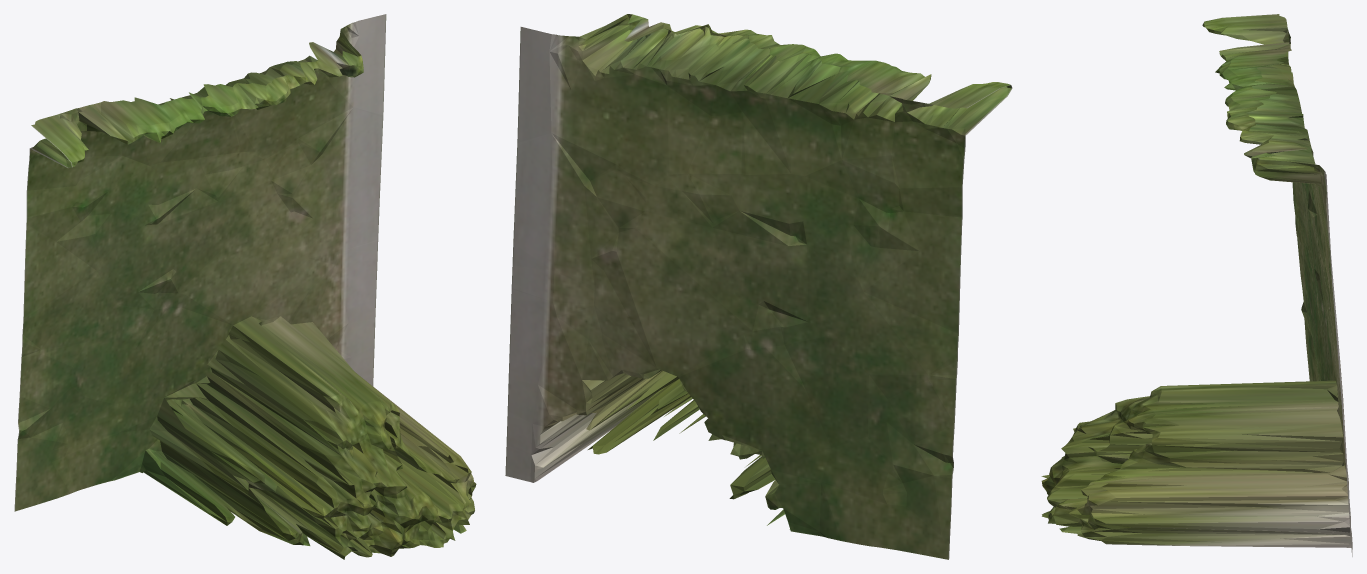
The model's file is map_60_80.obj.
The picture shows the model from 3 angles, left to right: view 1: azimuth 30°, elevation 25°; view 2: azimuth 150°, elevation 25°; view 3: azimuth 270°, elevation 25°; orthographic projection. The views are drawn at different scales.
Parts seen in each view (by area): view 1: grp1; view 2: grp1; view 3: grp1.
Boxes of the visible parts, x1=… form: grp1: x1=14, y1=14, x2=476, y2=559; grp1: x1=505, y1=14, x2=1012, y2=559; grp1: x1=1041, y1=14, x2=1352, y2=556.
Size of the model in its own units: 10 by 10 by 7.58.
1 material, 1 textured.
